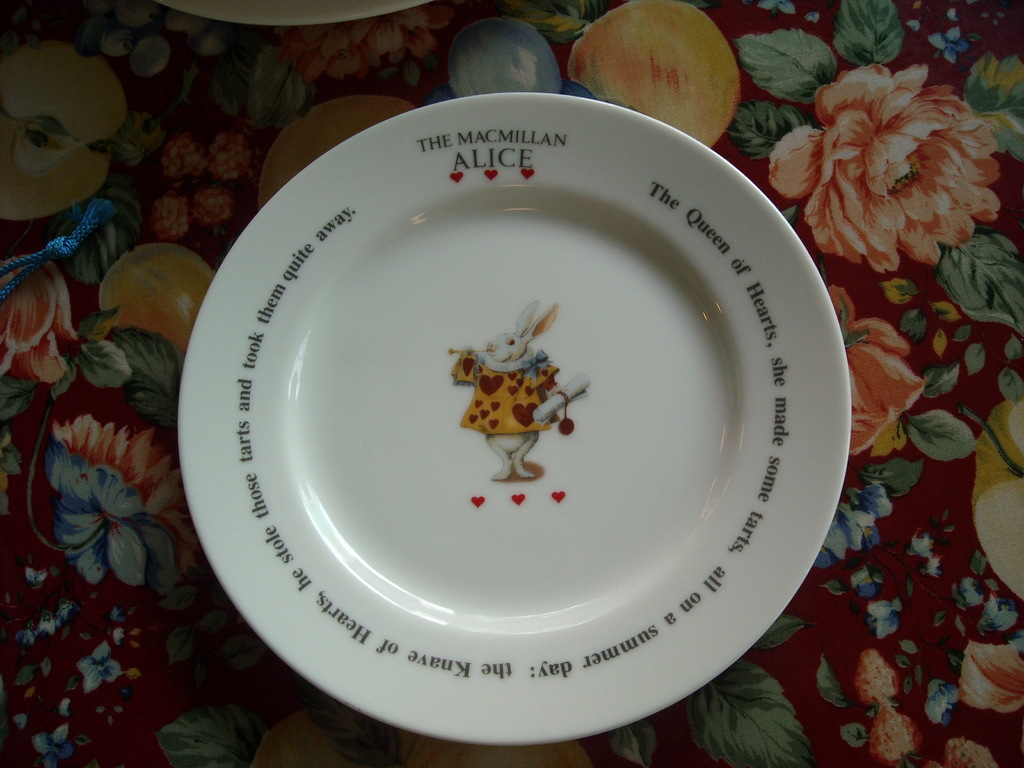plate: (179, 91, 851, 747)
